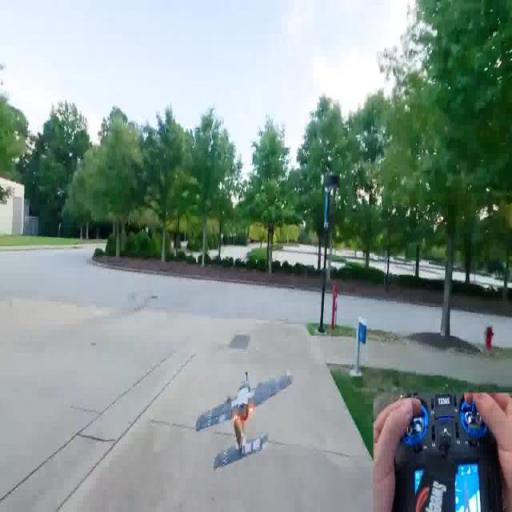uav: (192, 357, 300, 477)
